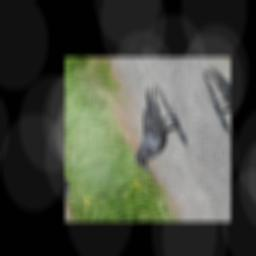Crow: (105, 79, 198, 175)
